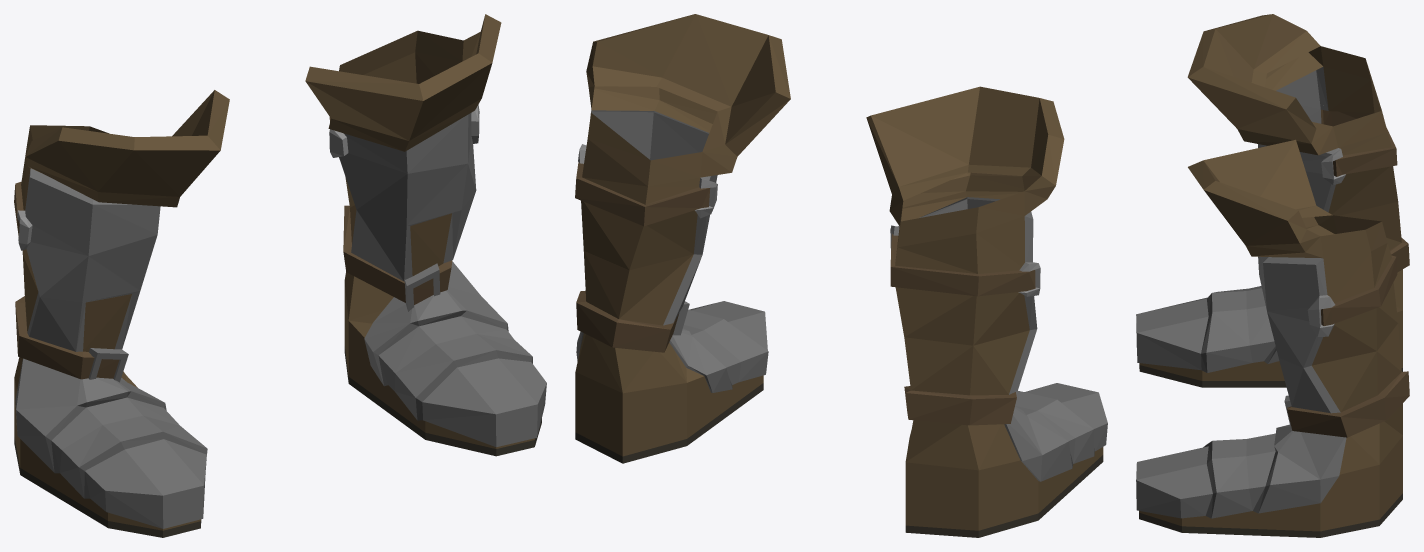
Rendered from LegendaryNobleWarriorBoots.dae.
3 views of the same model, side by side, from view 1: azimuth 30°, elevation 25°; view 2: azimuth 150°, elevation 25°; view 3: azimuth 270°, elevation 25° (orthographic). The views are drawn at different scales.
Parts seen in each view (by area): view 1: Boots; view 2: Boots; view 3: Boots.
Part boxes in pixels (box(x1,y1,x2,y2)): Boots: box(14, 14, 546, 537); Boots: box(575, 14, 1107, 537); Boots: box(1136, 14, 1409, 537).
Bounding box in the file's own units: 2.69 × 1.5 × 2.01.
